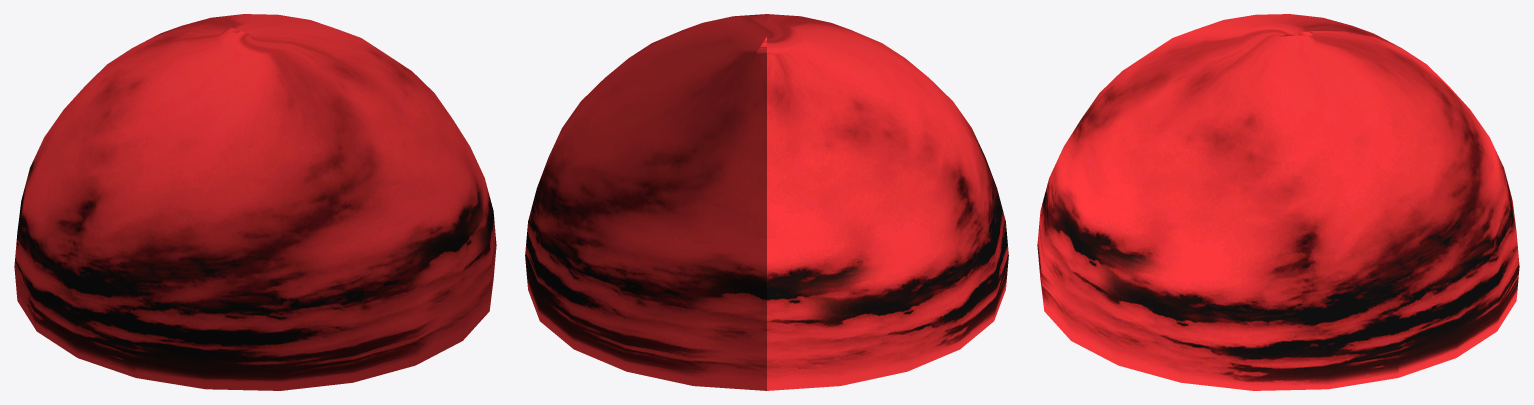
The model's file is Skybox.obj.
3 views of the same model, side by side, from view 1: azimuth 30°, elevation 25°; view 2: azimuth 150°, elevation 25°; view 3: azimuth 270°, elevation 25° (orthographic).
Parts seen in each view (by area): view 1: Sky_Sky_Mesh_0010.rip.000; view 2: Sky_Sky_Mesh_0010.rip.000; view 3: Sky_Sky_Mesh_0010.rip.000.
Part boxes in pixels (box(x1,y1,x2,y2)): Sky_Sky_Mesh_0010.rip.000: box(14, 14, 496, 390); Sky_Sky_Mesh_0010.rip.000: box(525, 14, 1008, 390); Sky_Sky_Mesh_0010.rip.000: box(1037, 14, 1519, 390).
Bounding box in the file's own units: 333 × 194 × 333.
1 material, 1 textured.
